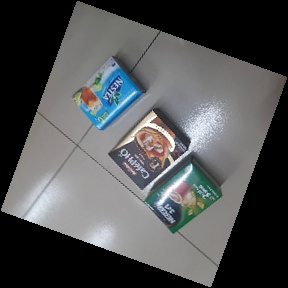CF pho: (108, 109, 190, 189)
Nes Rang: (145, 154, 227, 237)
Nestea: (70, 55, 145, 131)
